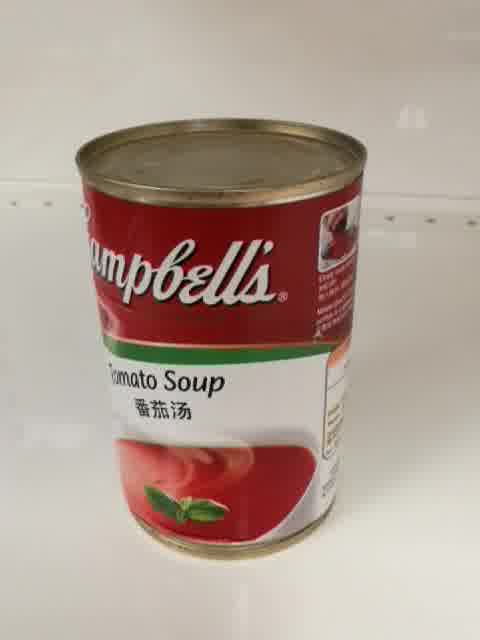tomatosoup: (72, 115, 368, 562)
